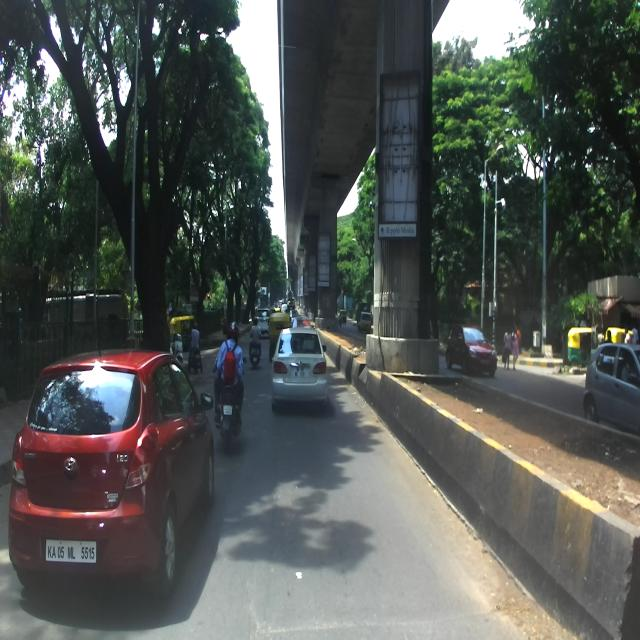car ahead at: (8, 350, 215, 589), (272, 319, 330, 410)
